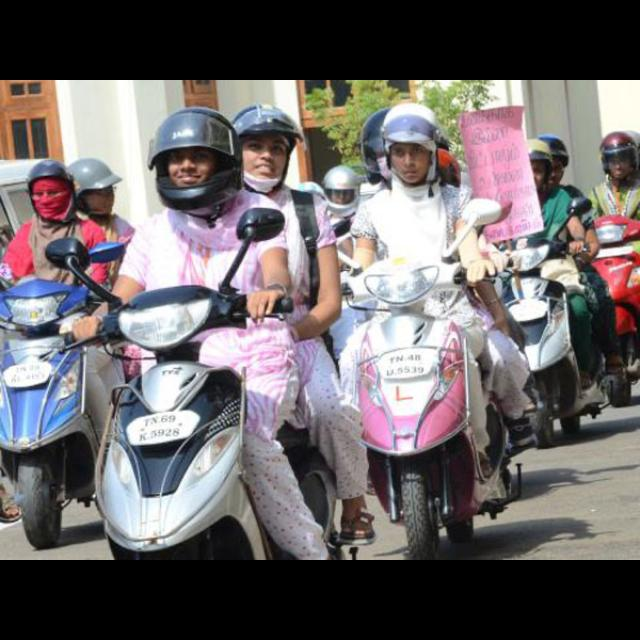With Helmet: (146, 106, 244, 210), (378, 98, 442, 188), (19, 156, 81, 230)
